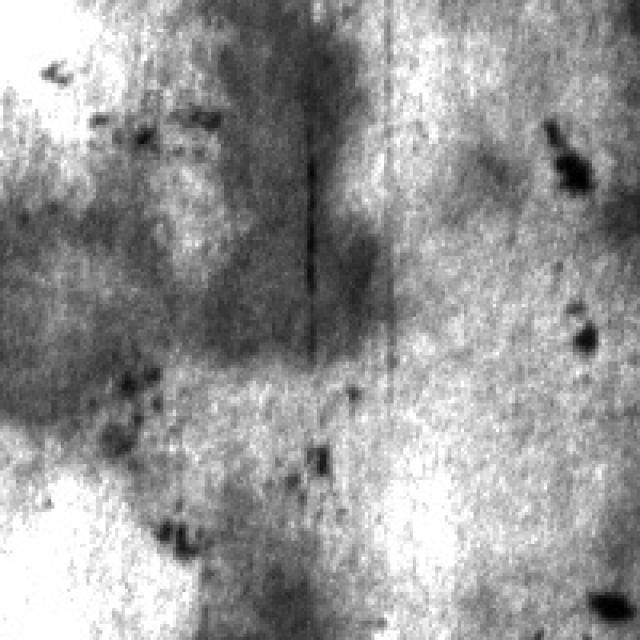inclusion: (525, 108, 605, 202), (100, 346, 167, 432), (144, 496, 202, 570), (576, 570, 637, 634), (557, 288, 605, 358)
patches: (186, 0, 371, 362), (0, 195, 173, 422), (202, 493, 355, 637)
